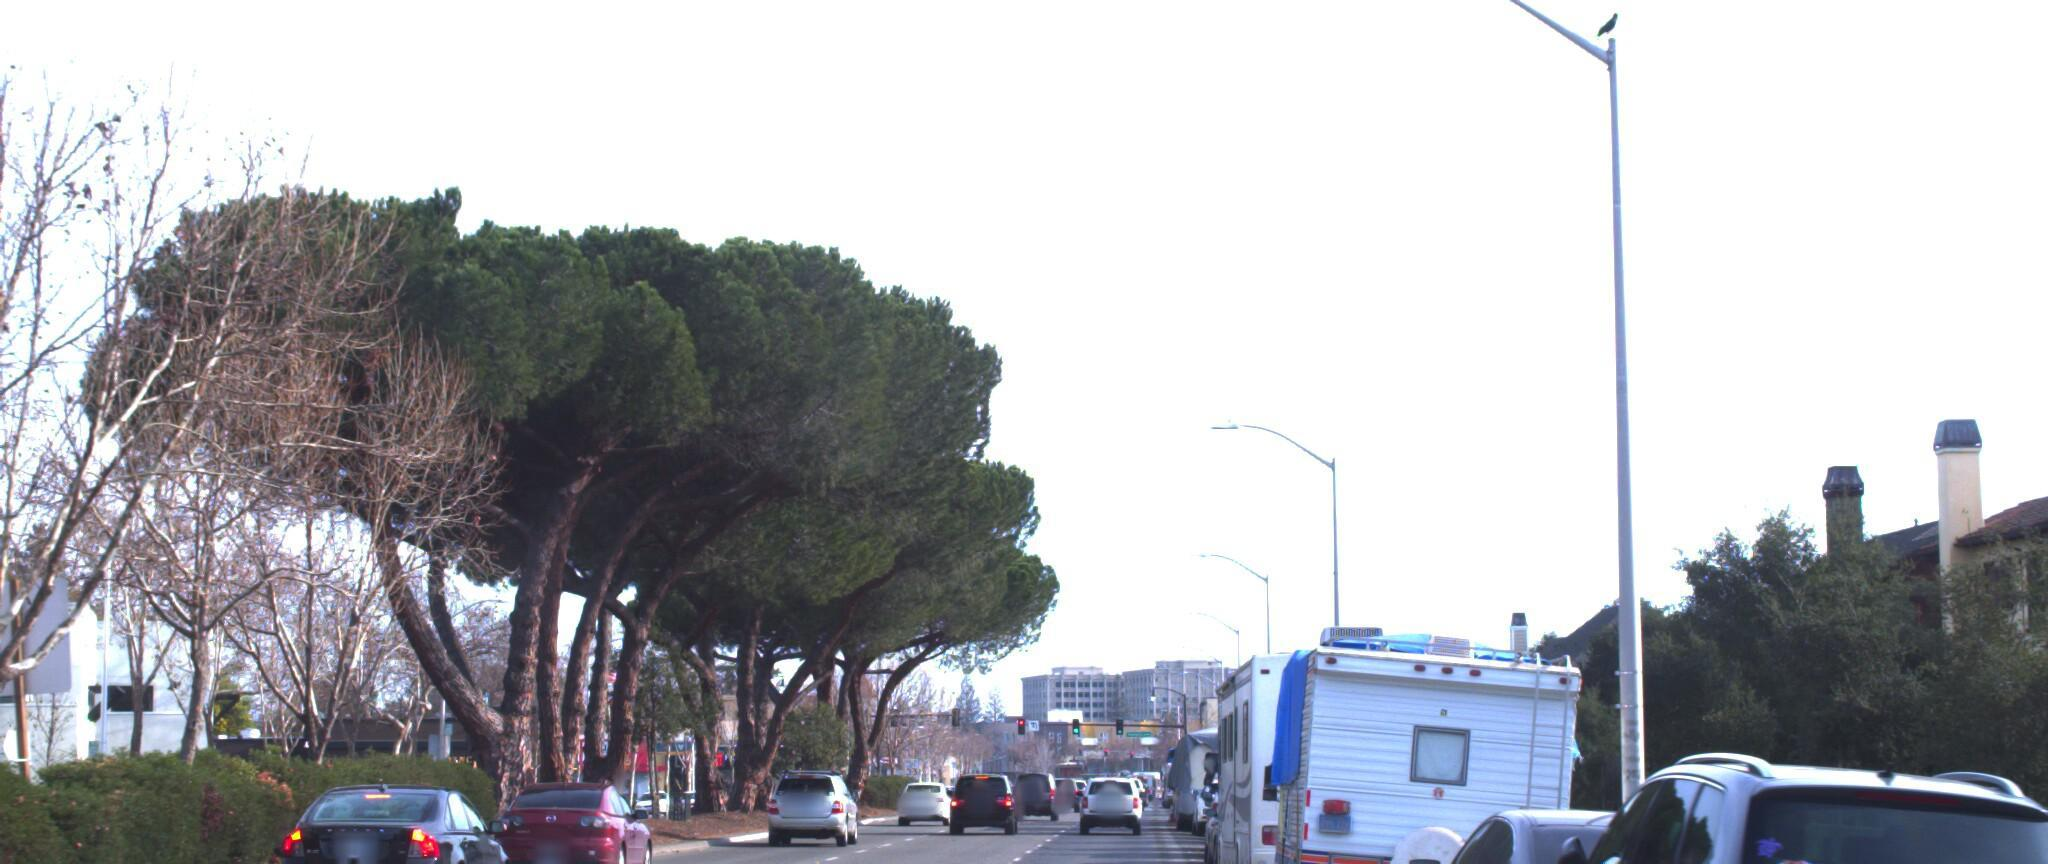car: (1479, 750, 2048, 864), (1371, 797, 1791, 864), (263, 767, 519, 864), (477, 762, 650, 864), (1721, 833, 2048, 864), (758, 758, 859, 837), (953, 770, 1027, 834)
other_vehicle: (1199, 576, 1552, 864), (1249, 613, 1624, 864)
